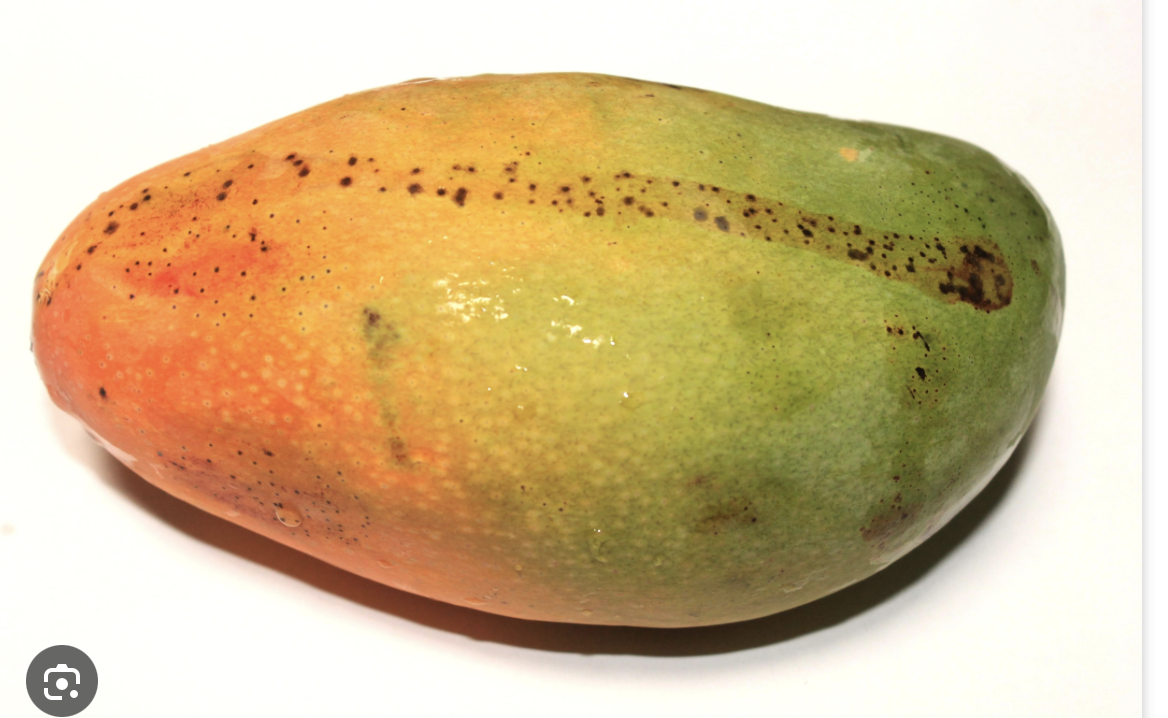mango: (19, 19, 1105, 702)
